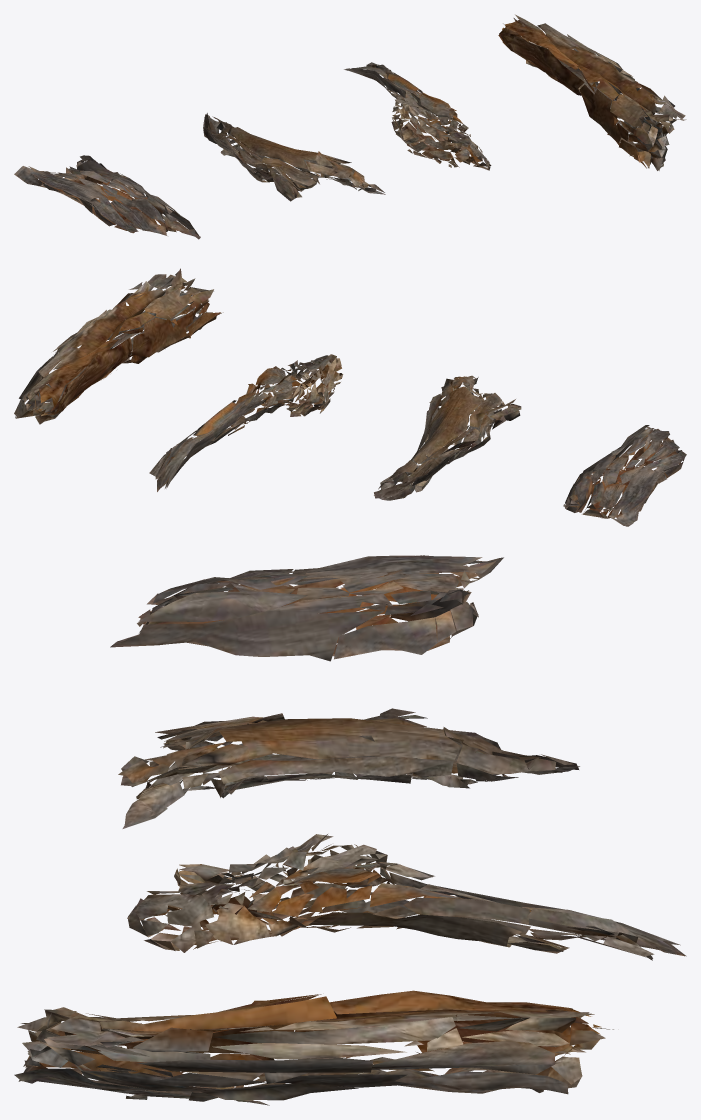
The model's file is bark_bits.glb.
The picture shows the model from 3 angles, top to bottom: view 1: azimuth 30°, elevation 25°; view 2: azimuth 150°, elevation 25°; view 3: azimuth 270°, elevation 25°; orthographic projection. The views are drawn at different scales.
Parts seen in each view (by area): view 1: bark_debris_01_a; view 2: bark_debris_01_a; view 3: bark_debris_01_a.
Part boxes in pixels (x1,y1,x2,y2): bark_debris_01_a: (14, 14, 686, 239); bark_debris_01_a: (14, 268, 686, 526); bark_debris_01_a: (14, 555, 686, 1105).
Size of the model in its own units: 1.21 by 0.1068 by 0.6722.
Materials: 1 (1 with a texture image).
